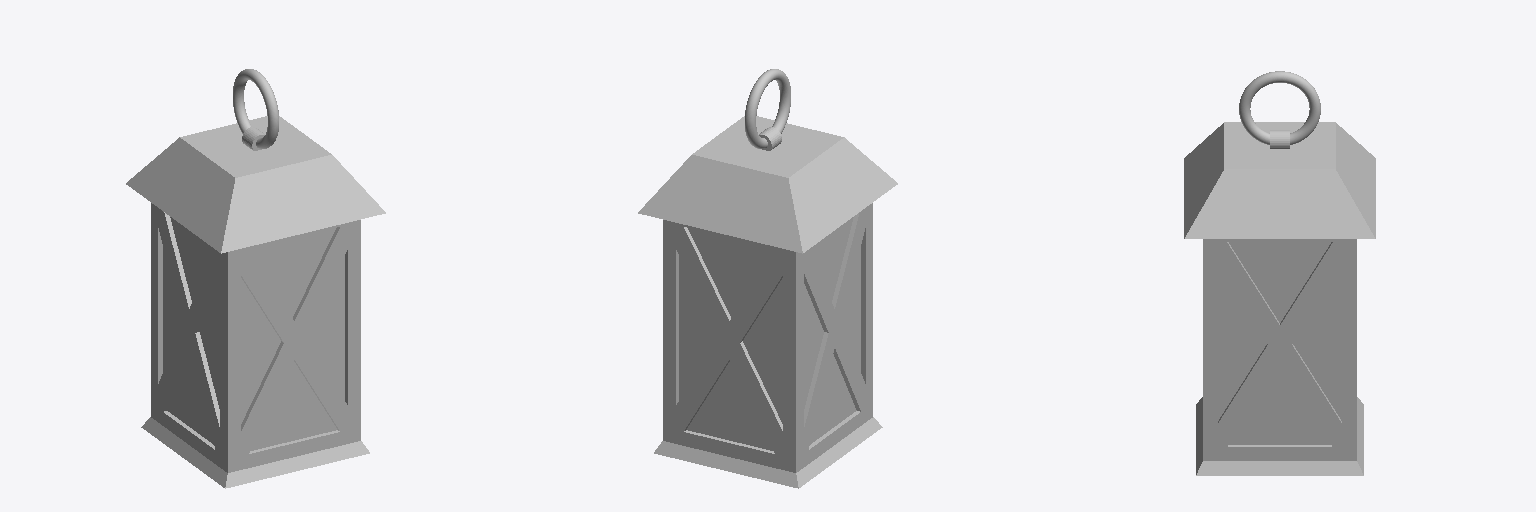
File: lantern.obj
3 views of the same model, side by side, from view 1: azimuth 30°, elevation 25°; view 2: azimuth 150°, elevation 25°; view 3: azimuth 270°, elevation 25° (orthographic).
Visible parts, largest first — view 1: Cube, Cube.001, Cube.002, Torus.003; view 2: Cube, Cube.001, Cube.002, Torus.003; view 3: Cube, Cube.001, Cube.002, Torus.003.
Part boxes in pixels (x1,y1,x2,y2): Cube: (141,203,369,488); Cube.001: (126,116,385,253); Cube.002: (163,217,344,450); Torus.003: (233,69,278,148); Cube: (654,203,882,488); Cube.001: (638,116,897,253); Cube.002: (679,217,860,450); Torus.003: (745,69,790,148); Cube: (1196,239,1363,475); Cube.001: (1184,122,1375,238); Cube.002: (1218,242,1341,444); Torus.003: (1239,71,1320,144).
Bounding box in the file's own units: 0.3718 × 0.7905 × 0.3718.